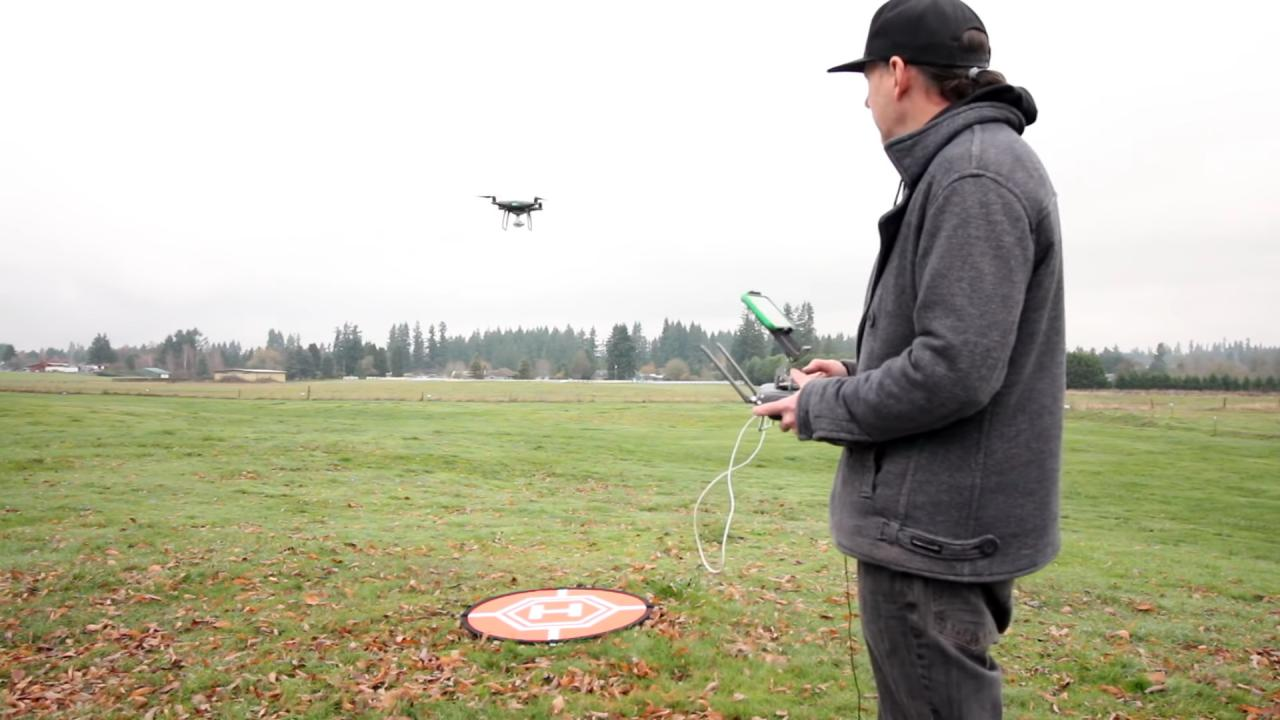Drone: (471, 188, 562, 236)
